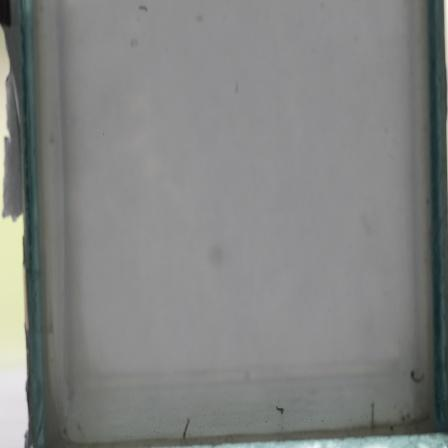Jentik-Nyamuk: (408, 368, 428, 386), (181, 415, 194, 442), (274, 402, 286, 418)
